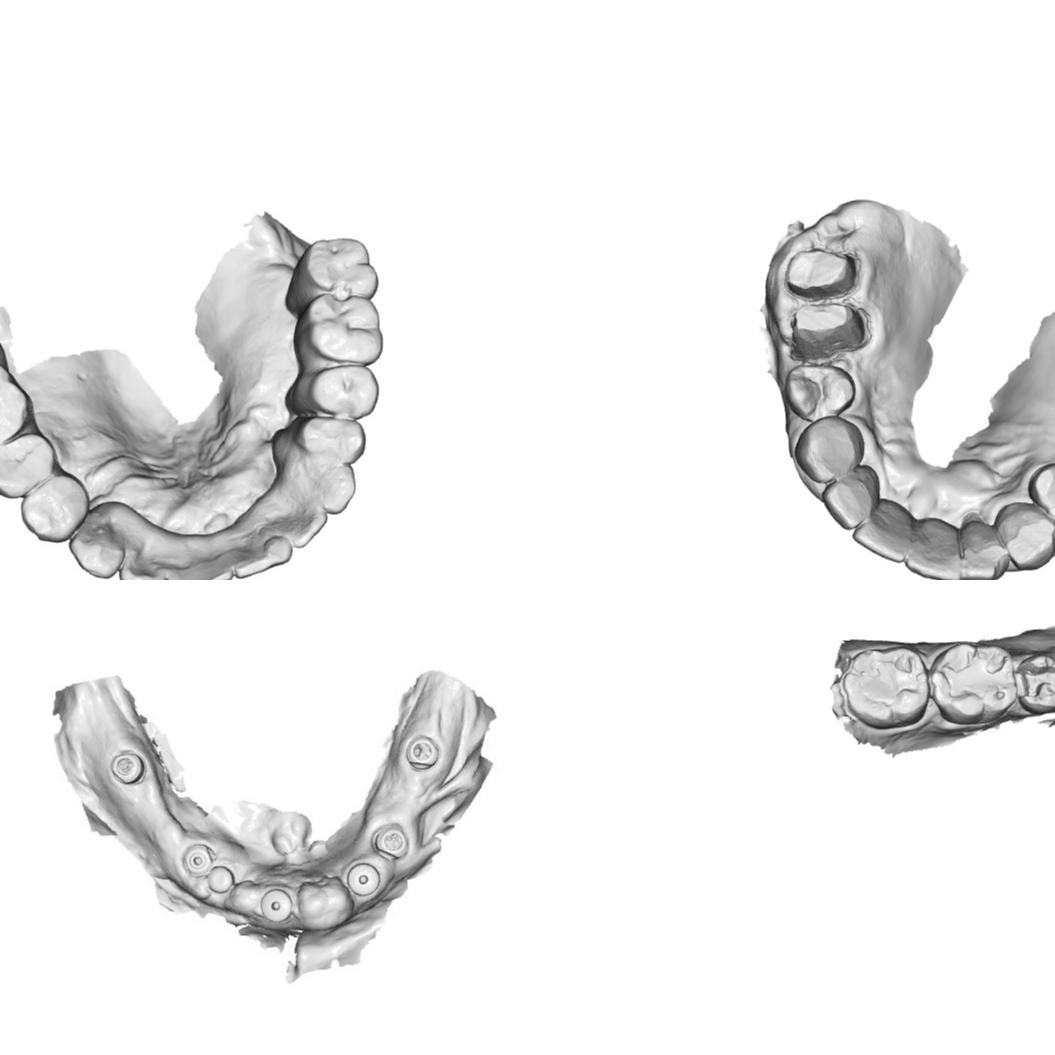canine: (792, 416, 867, 486), (64, 510, 126, 580), (996, 501, 1055, 572), (292, 458, 357, 516)
crown: (786, 299, 870, 360), (780, 246, 860, 300)
implant: (402, 731, 441, 773), (107, 748, 146, 789), (370, 825, 410, 860), (347, 861, 380, 901), (183, 843, 214, 875), (260, 889, 288, 920)
incisor: (819, 463, 882, 532), (852, 496, 913, 566), (904, 518, 964, 580), (957, 516, 1013, 580), (226, 525, 290, 580), (116, 521, 166, 580), (272, 501, 330, 551), (163, 541, 234, 580)
inlay: (1014, 660, 1055, 701)
molar: (839, 644, 930, 732), (927, 641, 1018, 727), (292, 293, 383, 369), (290, 237, 380, 296), (0, 358, 35, 455)
premolar: (17, 471, 91, 545), (296, 366, 381, 419), (780, 363, 856, 422), (0, 430, 58, 501), (292, 415, 369, 462), (1027, 461, 1055, 530)
